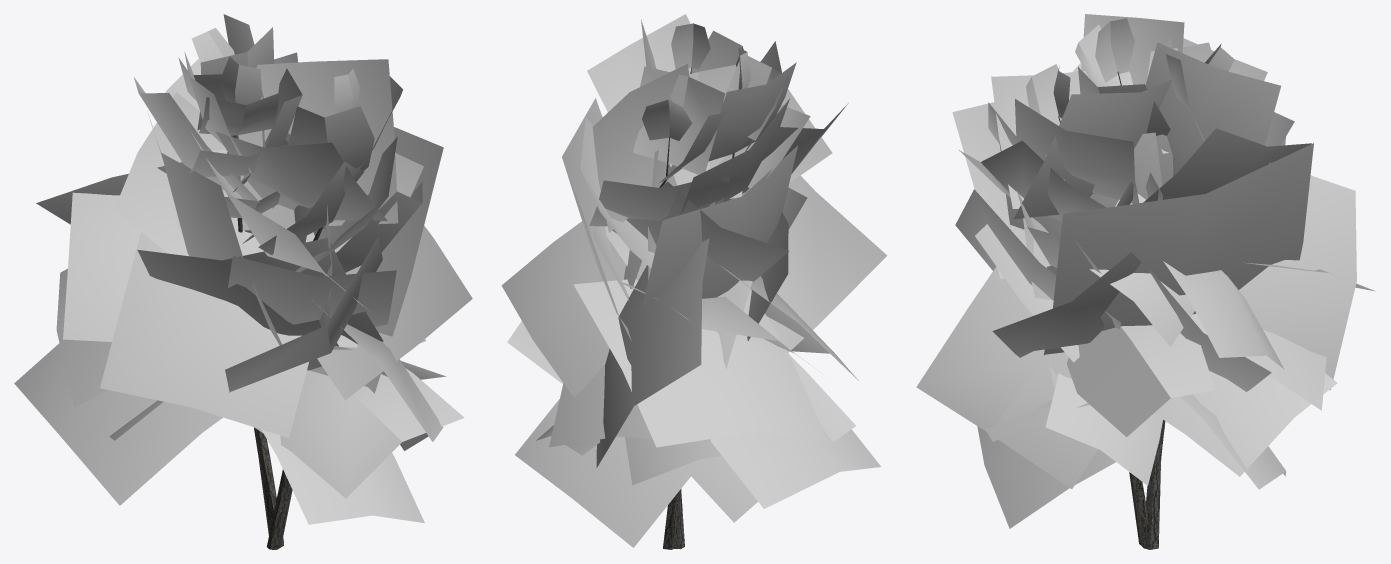
The model's file is tree_1_1.gltf.
The picture shows the model from 3 angles, left to right: view 1: azimuth 30°, elevation 25°; view 2: azimuth 150°, elevation 25°; view 3: azimuth 270°, elevation 25°; orthographic projection. The views are drawn at different scales.
Visible parts, largest first — view 1: Tree-01-1; view 2: Tree-01-1; view 3: Tree-01-1.
Part boxes in pixels (bbox=[...]): Tree-01-1: bbox=[14, 14, 472, 549]; Tree-01-1: bbox=[501, 14, 887, 549]; Tree-01-1: bbox=[916, 14, 1375, 549].
Bounding box in the file's own units: 5.06 × 7.39 × 6.17.
